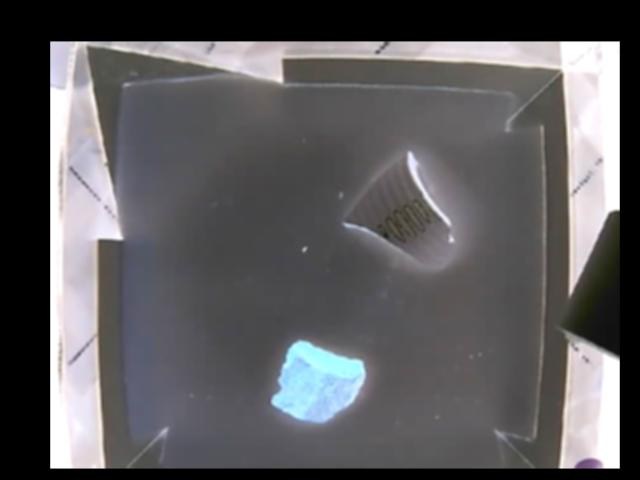Brisk: (271, 335, 366, 424)
China: (341, 153, 456, 268)
